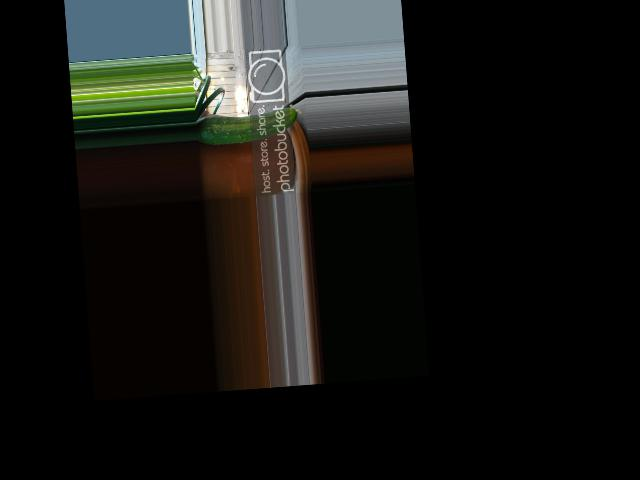cucumber: (196, 106, 304, 145)
